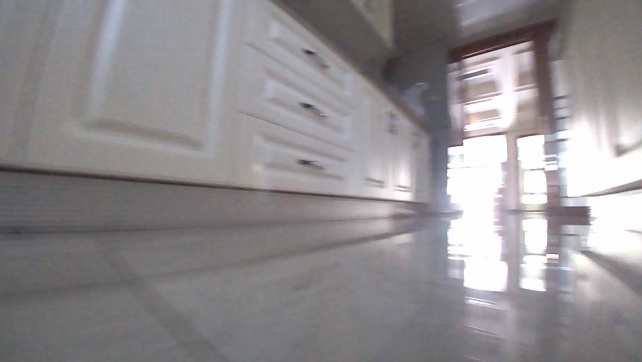cupboard: (0, 0, 441, 235)
